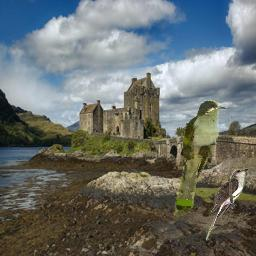Cuckoo: (174, 100, 227, 218), (206, 168, 249, 241)
